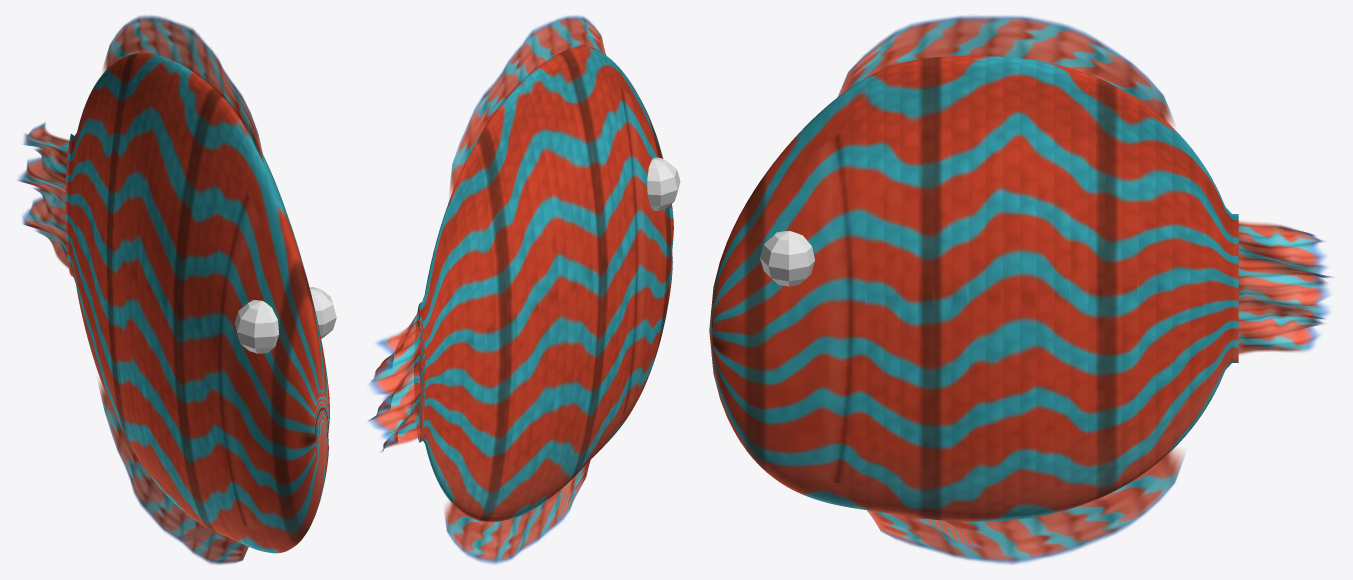
Rendered from discus-0.glb.
3 views of the same model, side by side, from view 1: azimuth 30°, elevation 25°; view 2: azimuth 150°, elevation 25°; view 3: azimuth 270°, elevation 25° (orthographic). The views are drawn at different scales.
Parts seen in each view (by area): view 1: Body, Fins, EyeL, EyeR; view 2: Body, Fins, EyeL; view 3: Body, Fins, EyeR.
Boxes of the visible parts, x1=… form: Body: x1=65, y1=53, x2=329, y2=553; Fins: x1=17, y1=15, x2=264, y2=564; EyeL: x1=234, y1=300, x2=278, y2=353; EyeR: x1=309, y1=287, x2=336, y2=338; Body: x1=414, y1=46, x2=673, y2=522; Fins: x1=367, y1=15, x2=606, y2=564; EyeL: x1=647, y1=157, x2=680, y2=210; Body: x1=709, y1=56, x2=1238, y2=521; Fins: x1=836, y1=15, x2=1333, y2=564; EyeR: x1=760, y1=231, x2=814, y2=286.
Size of the model in its own units: 0.1321 by 0.6868 by 0.7105.
2 materials, 2 textured.
